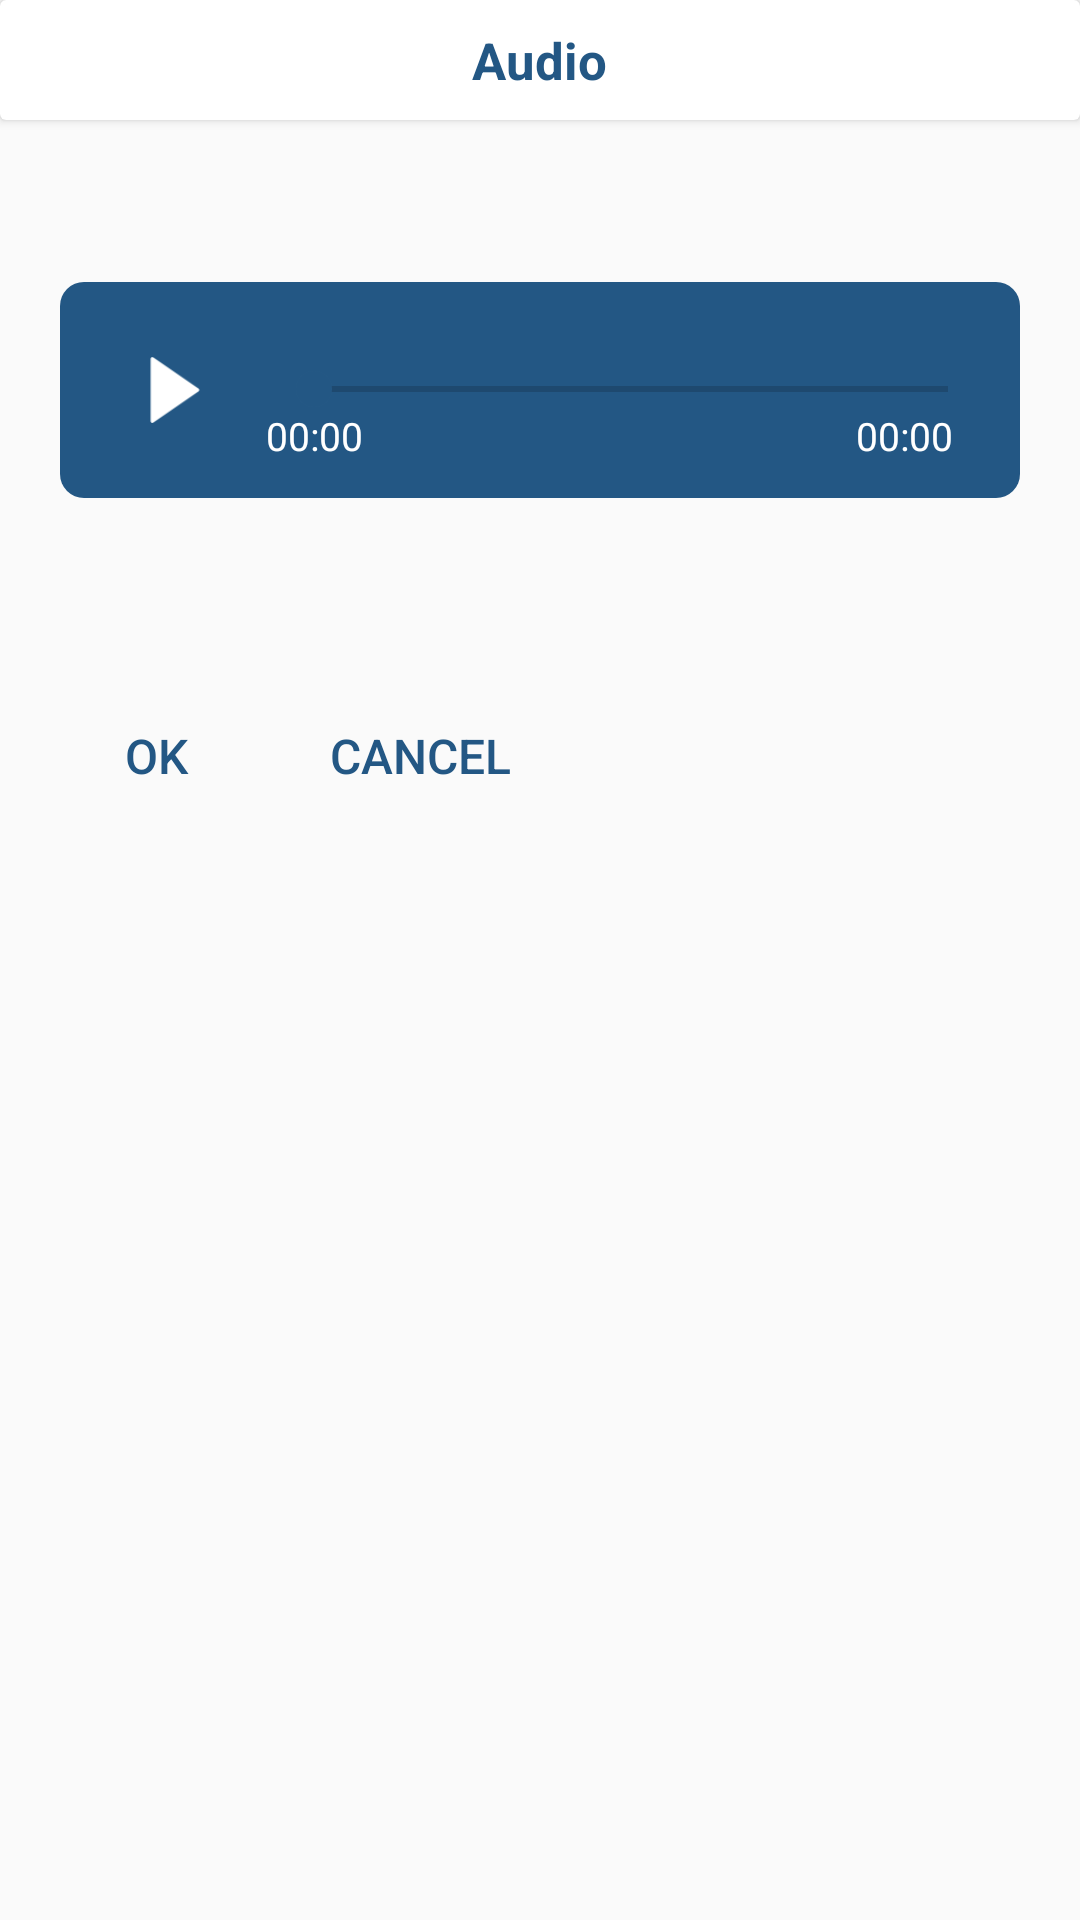

Screen size 1080px x 1920px. Icon name, then its center in pixels as [x,y]:
play: [175,390]
